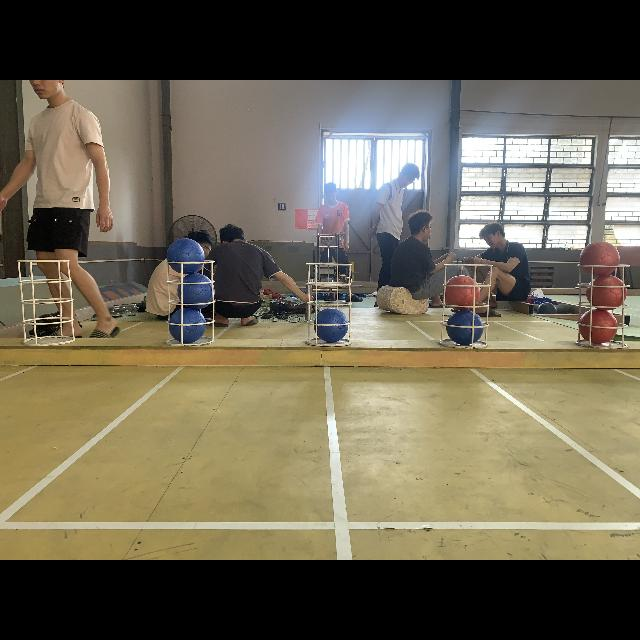B: (446, 310, 484, 346), (168, 238, 205, 274), (178, 274, 215, 308), (169, 308, 205, 342), (314, 308, 348, 342)
R: (578, 308, 618, 344), (578, 241, 620, 275), (588, 276, 626, 310), (445, 276, 479, 308)
